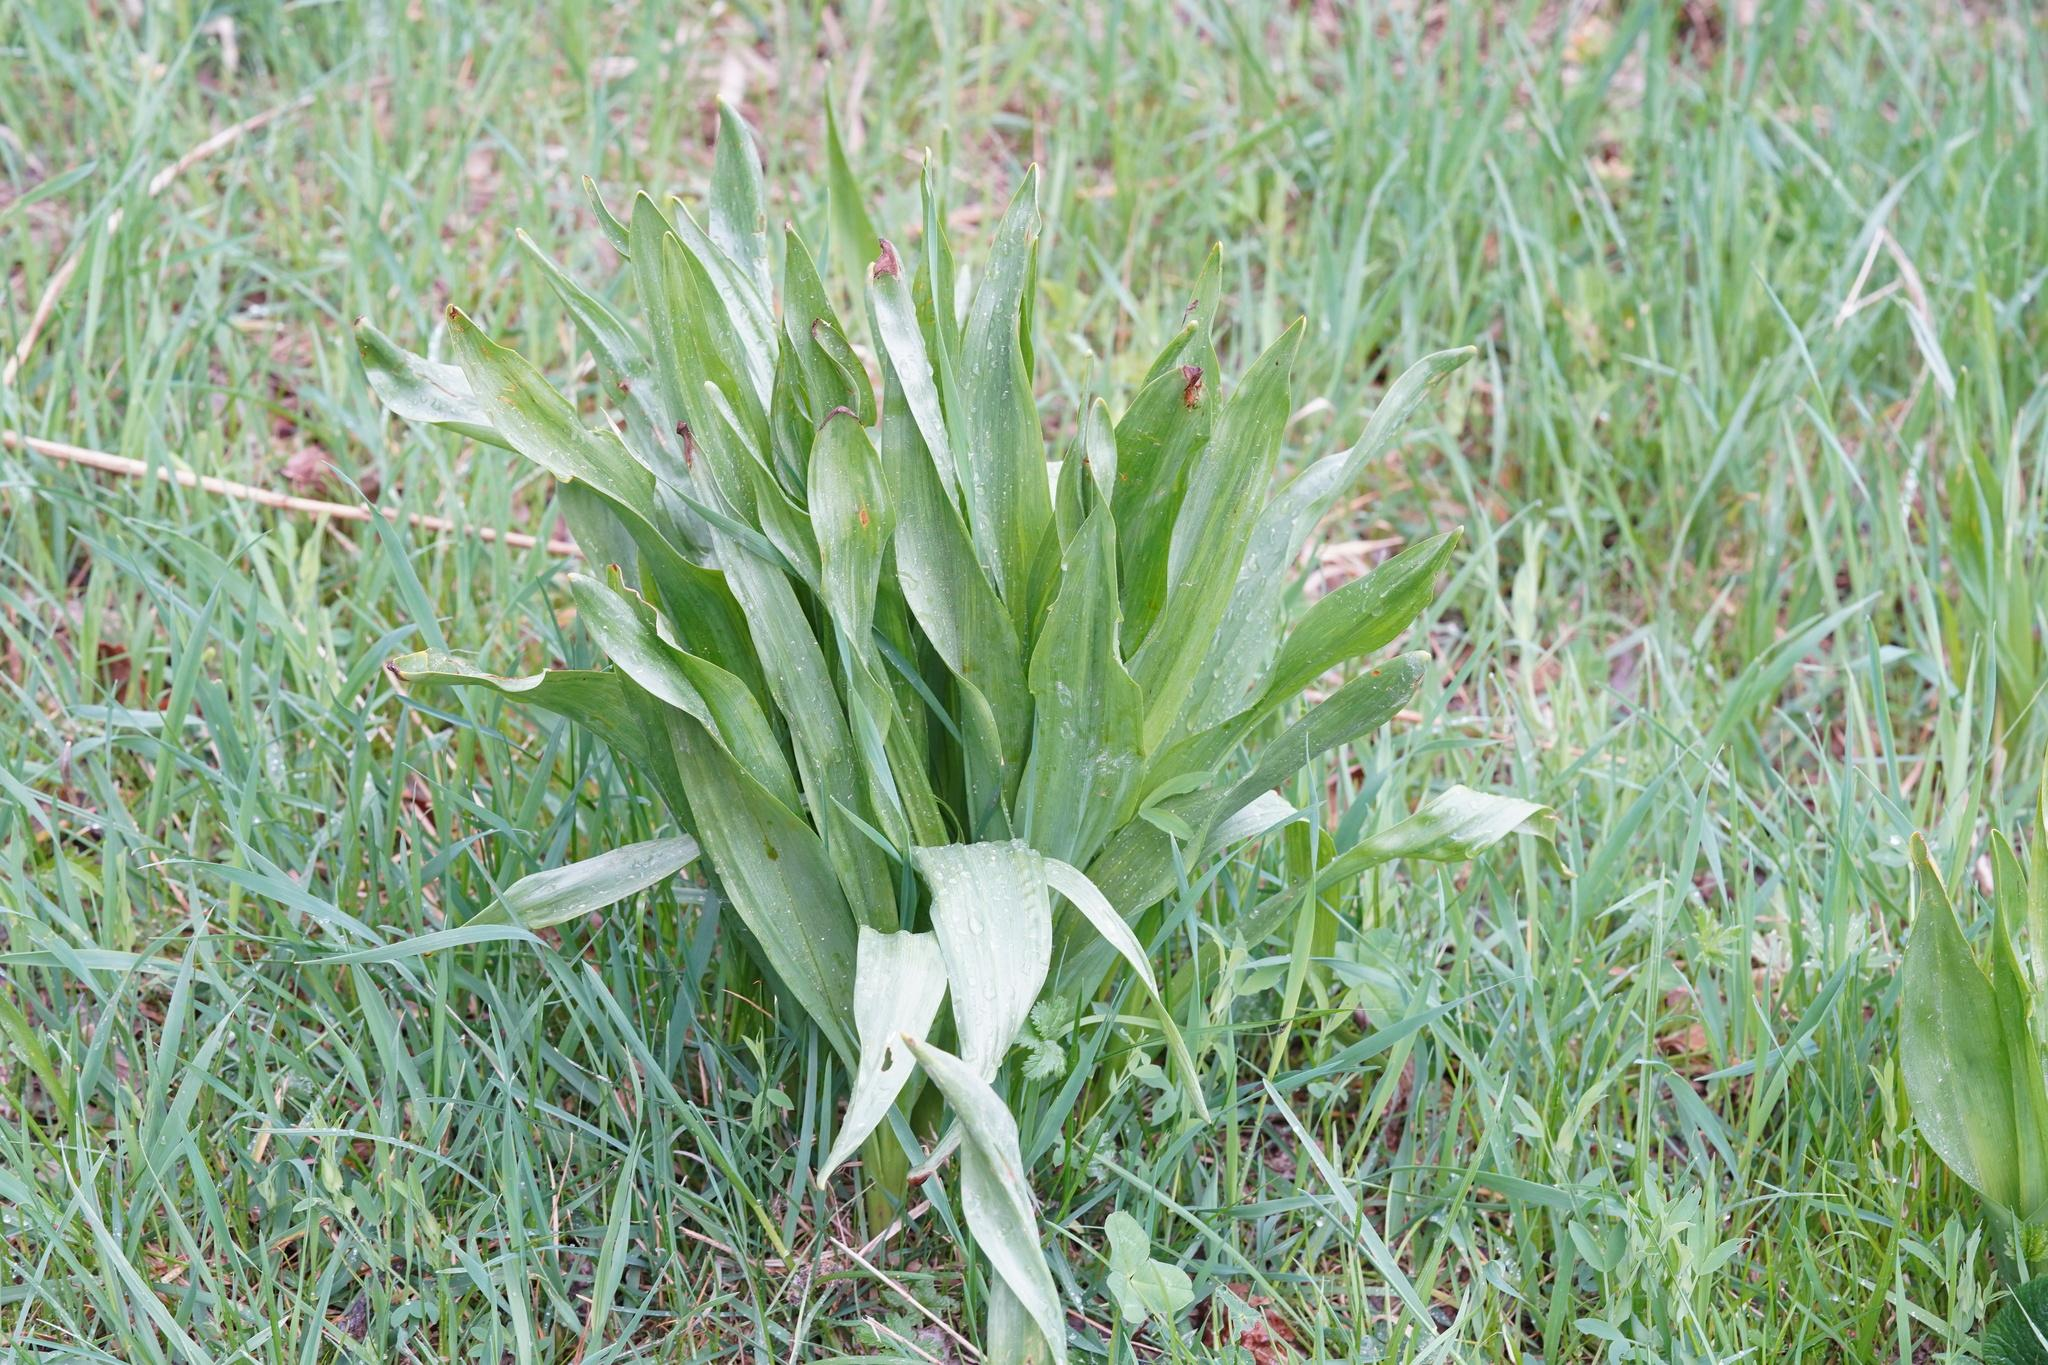Colchicum autumnale L: (321, 61, 1608, 1243)
